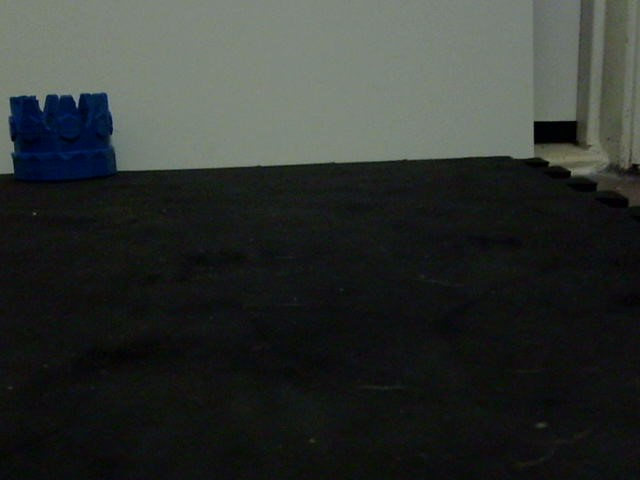crown: (4, 92, 117, 181)
